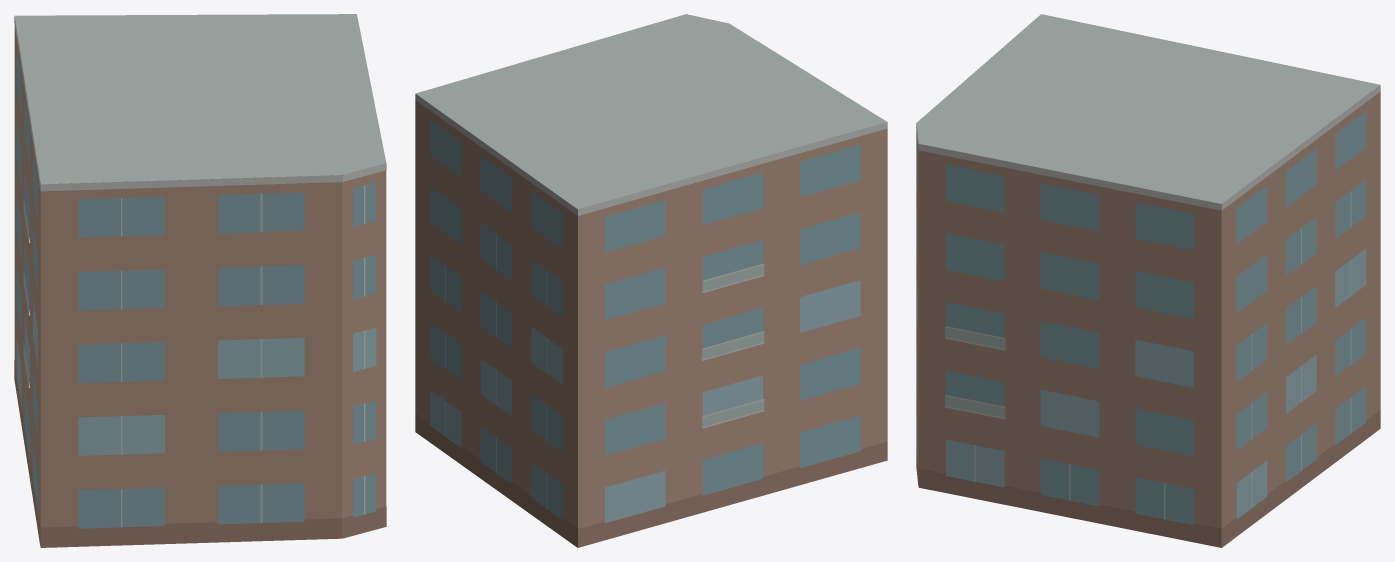
File: survey-upis-32907208.glb
3 views of the same model, side by side, from view 1: azimuth 30°, elevation 25°; view 2: azimuth 150°, elevation 25°; view 3: azimuth 270°, elevation 25° (orthographic). The views are drawn at different scales.
Parts seen in each view (by area): view 1: survey-upis-32907208.tmp; view 2: survey-upis-32907208.tmp; view 3: survey-upis-32907208.tmp.
Boxes of the visible parts, bbox=[...] form: survey-upis-32907208.tmp: bbox=[14, 14, 386, 547]; survey-upis-32907208.tmp: bbox=[415, 14, 887, 547]; survey-upis-32907208.tmp: bbox=[916, 14, 1380, 547].
Size of the model in its own units: 14.94 by 12.6 by 15.42.
